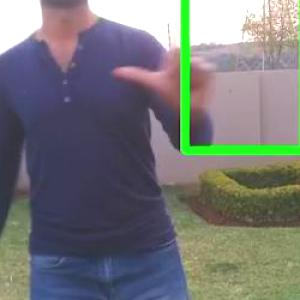land_hand: (110, 0, 218, 109)
